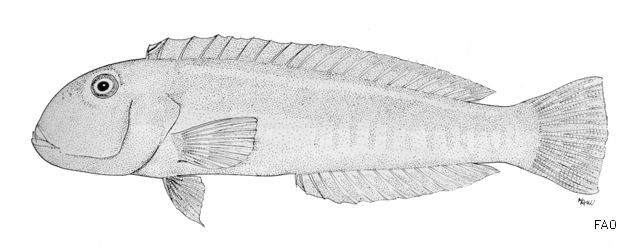fish: (31, 34, 609, 227)
